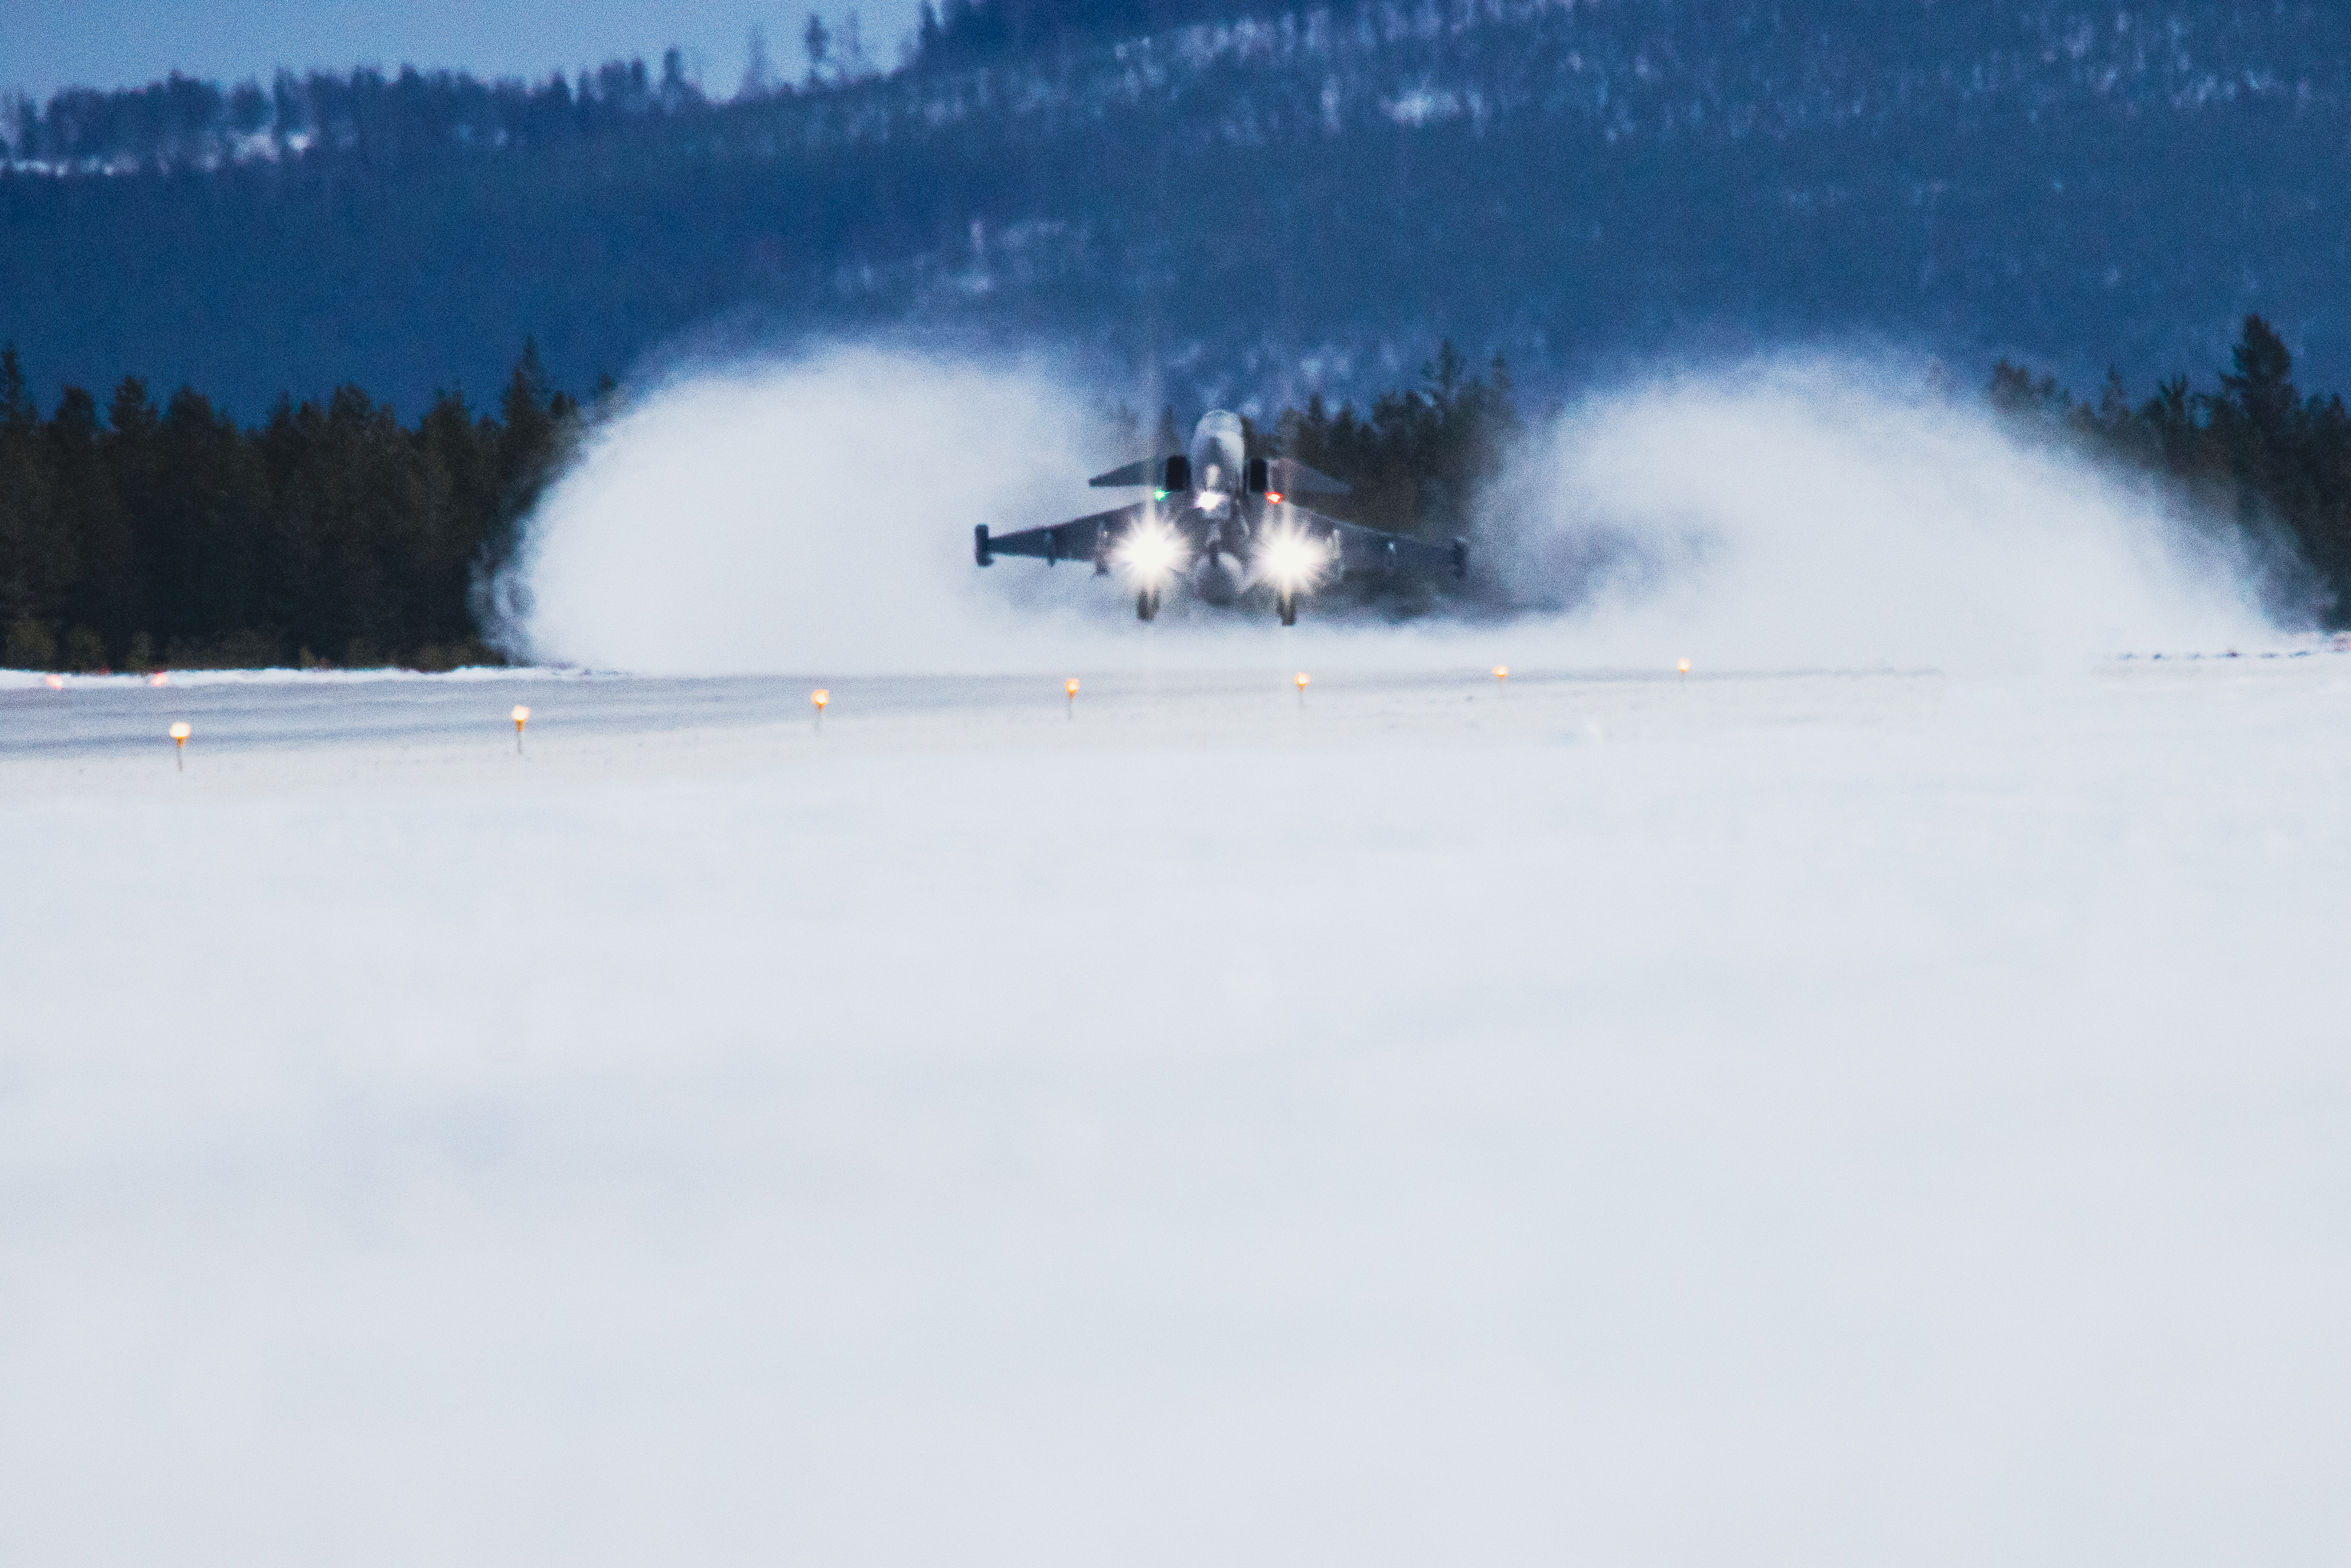JAS39: (973, 408, 1469, 626)
